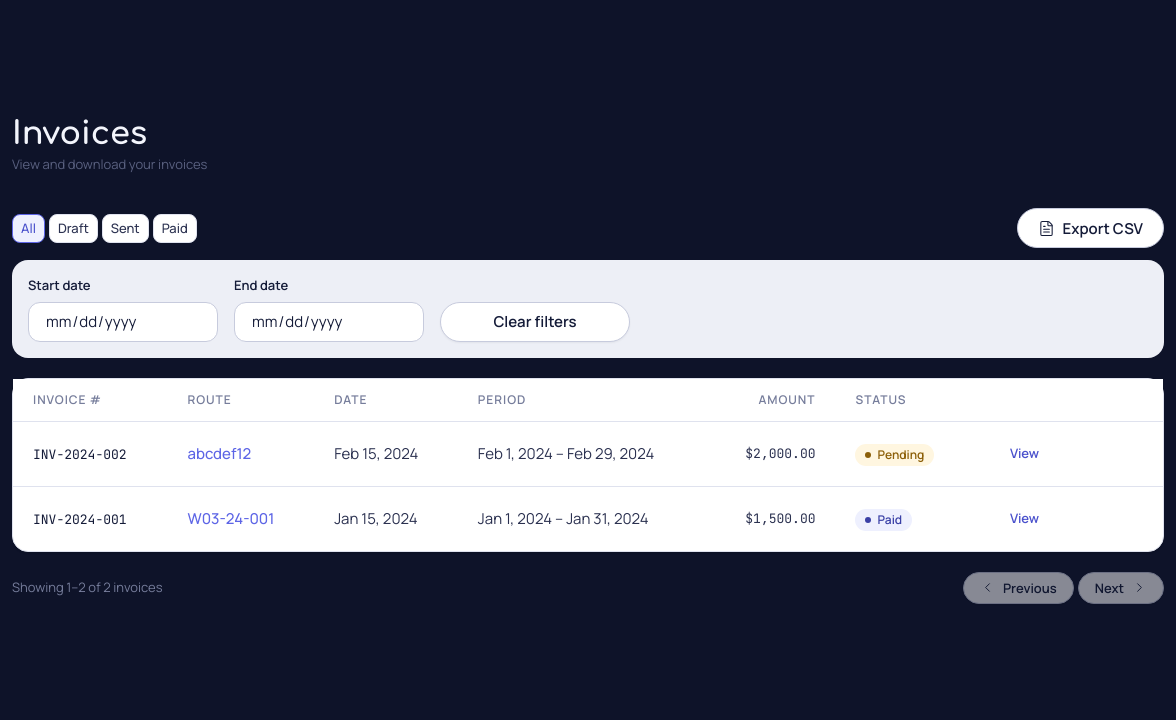
Scenario: Invoice List Page Integration › filters the invoice list by status chip
The image size is (1176, 720).
Expected: the text "INV-2024-001" is shown, [33,511,127,528]
Click the button "Paid": (175, 228) [153,214,197,243]
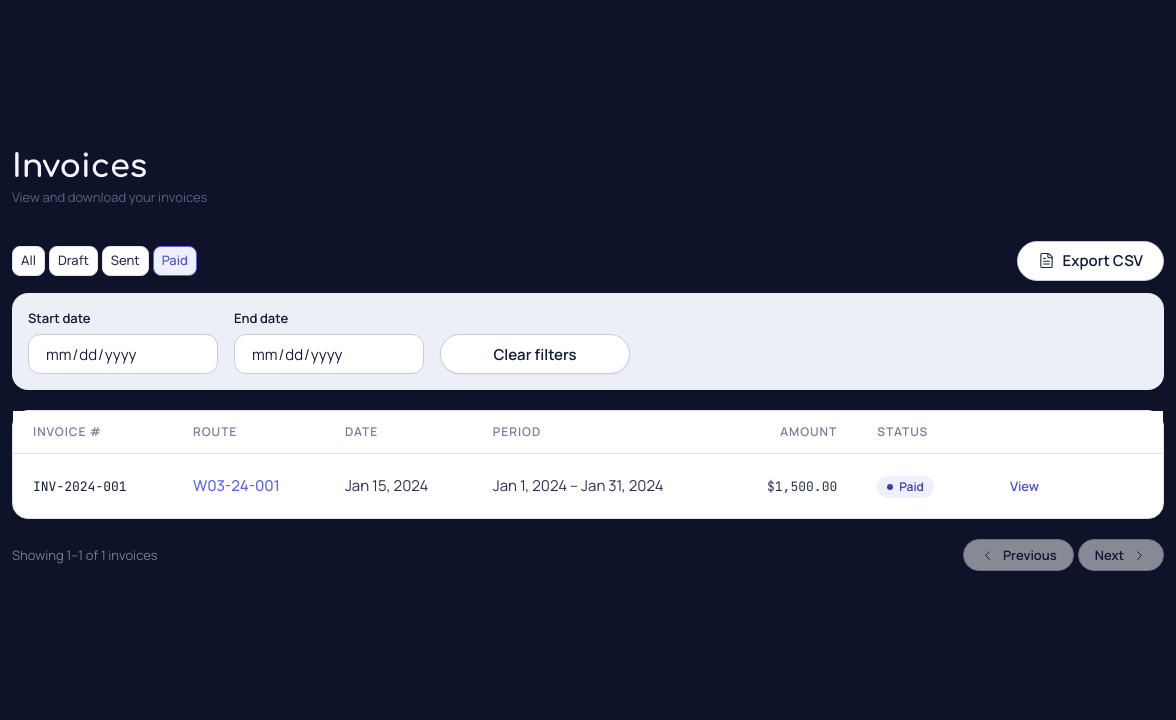
Expected: the text "INV-2024-001" is shown, [33,478,127,495]
Expected: the text "INV-2024-002" is gone
Expected: the text "Showing 1–1 of 1 invoices" is shown, [12,546,158,565]
